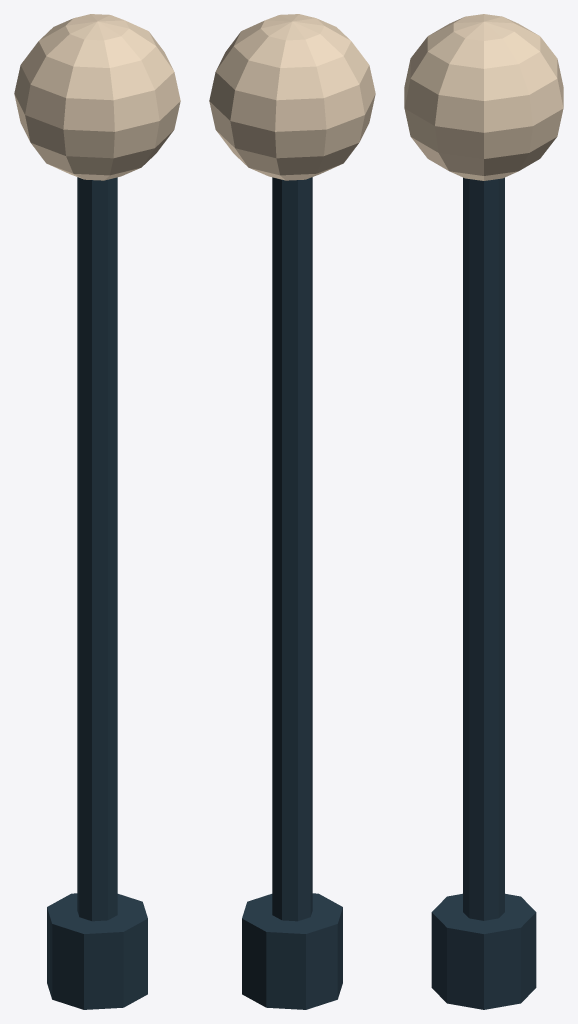
Rendered from globeLamp.obj.
3 renders of one model, left to right at view 1: azimuth 30°, elevation 25°; view 2: azimuth 150°, elevation 25°; view 3: azimuth 270°, elevation 25°, orthographic.
Parts seen in each view (by area): view 1: globeLamp; view 2: globeLamp; view 3: globeLamp.
Boxes of the visible parts, x1=… form: globeLamp: x1=14, y1=14, x2=180, y2=1009; globeLamp: x1=209, y1=14, x2=375, y2=1009; globeLamp: x1=404, y1=14, x2=563, y2=1009.
Bounding box in the file's own units: 0.8 × 5.1 × 0.7608.
